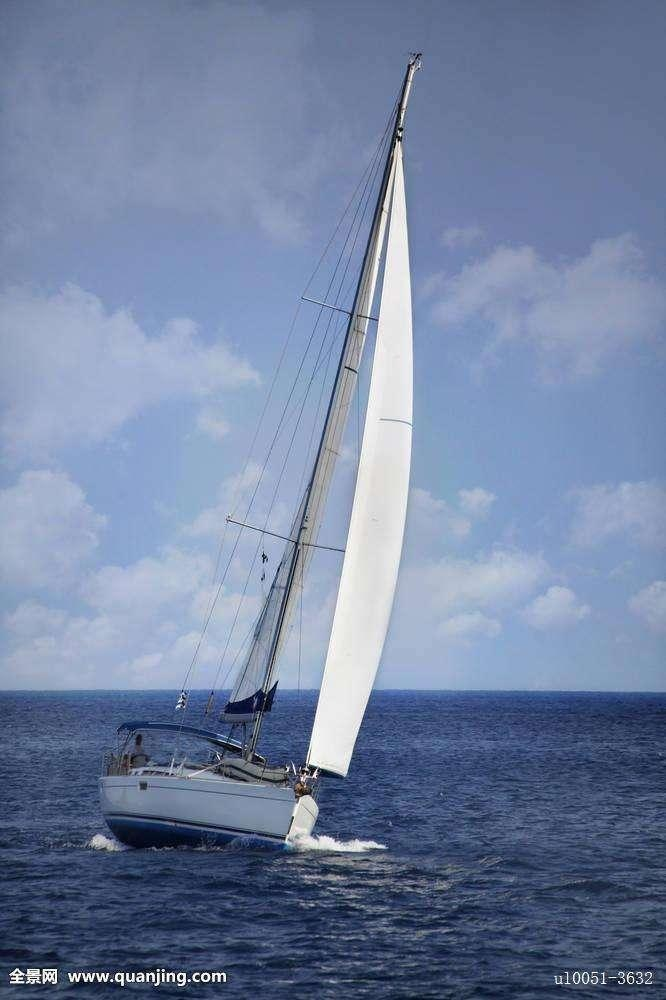fanchuan: (99, 46, 473, 859)
